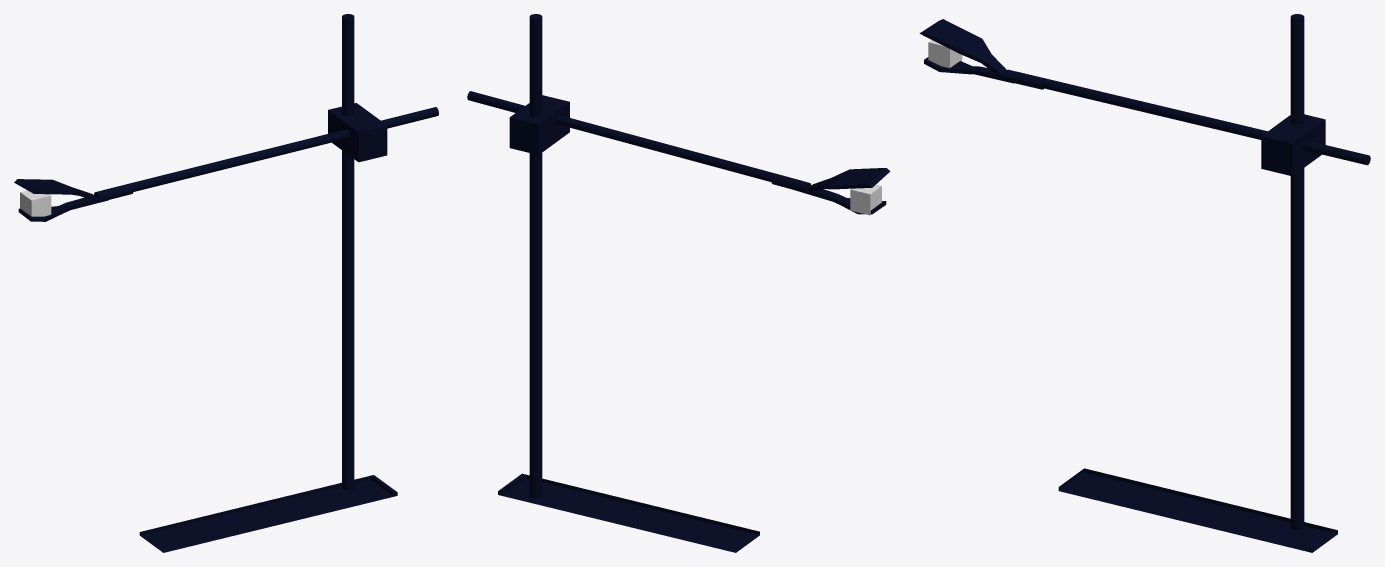
Rendered from meter_rule.glb.
3 renders of one model, left to right at view 1: azimuth 30°, elevation 25°; view 2: azimuth 150°, elevation 25°; view 3: azimuth 330°, elevation 25°, orthographic. The views are drawn at different scales.
Visible parts, largest first — view 1: Cylinder.001, Cube; view 2: Cylinder.001, Cube; view 3: Cylinder.001, Cube.
Part boxes in pixels (box(x1,y1,x2,y2)): Cylinder.001: box(14, 14, 438, 552); Cube: box(20, 190, 51, 216); Cylinder.001: box(467, 14, 890, 552); Cube: box(850, 184, 881, 215); Cylinder.001: box(919, 14, 1370, 552); Cube: box(928, 40, 962, 67).
Size of the model in its own units: 26.44 by 29.24 by 3.44.
